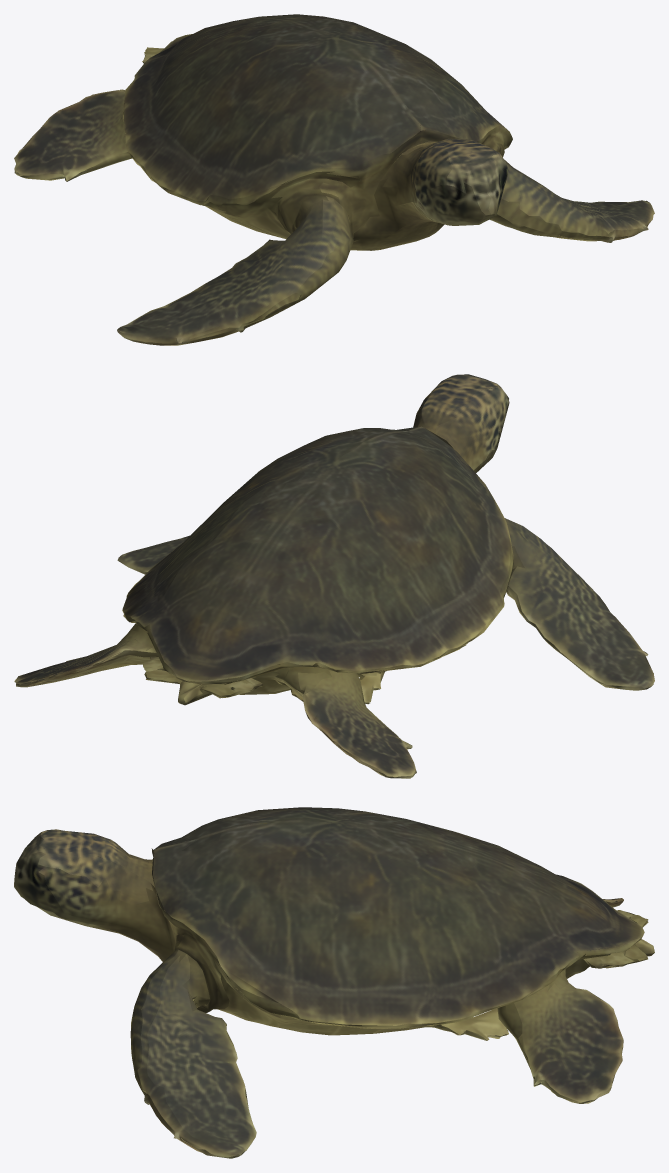
Rendered from green_sea_turtle_optimized.glb.
The picture shows the model from 3 angles, top to bottom: view 1: azimuth 30°, elevation 25°; view 2: azimuth 150°, elevation 25°; view 3: azimuth 270°, elevation 25°; orthographic projection. The views are drawn at different scales.
Parts seen in each view (by area): view 1: world; view 2: world; view 3: world.
Part boxes in pixels (x1=…): world: x1=14, y1=14, x2=654, y2=345; world: x1=14, y1=374, x2=654, y2=778; world: x1=14, y1=807, x2=654, y2=1158.
Size of the model in its own units: 1.2 by 0.435 by 1.21.
Materials: 1 (1 with a texture image).
